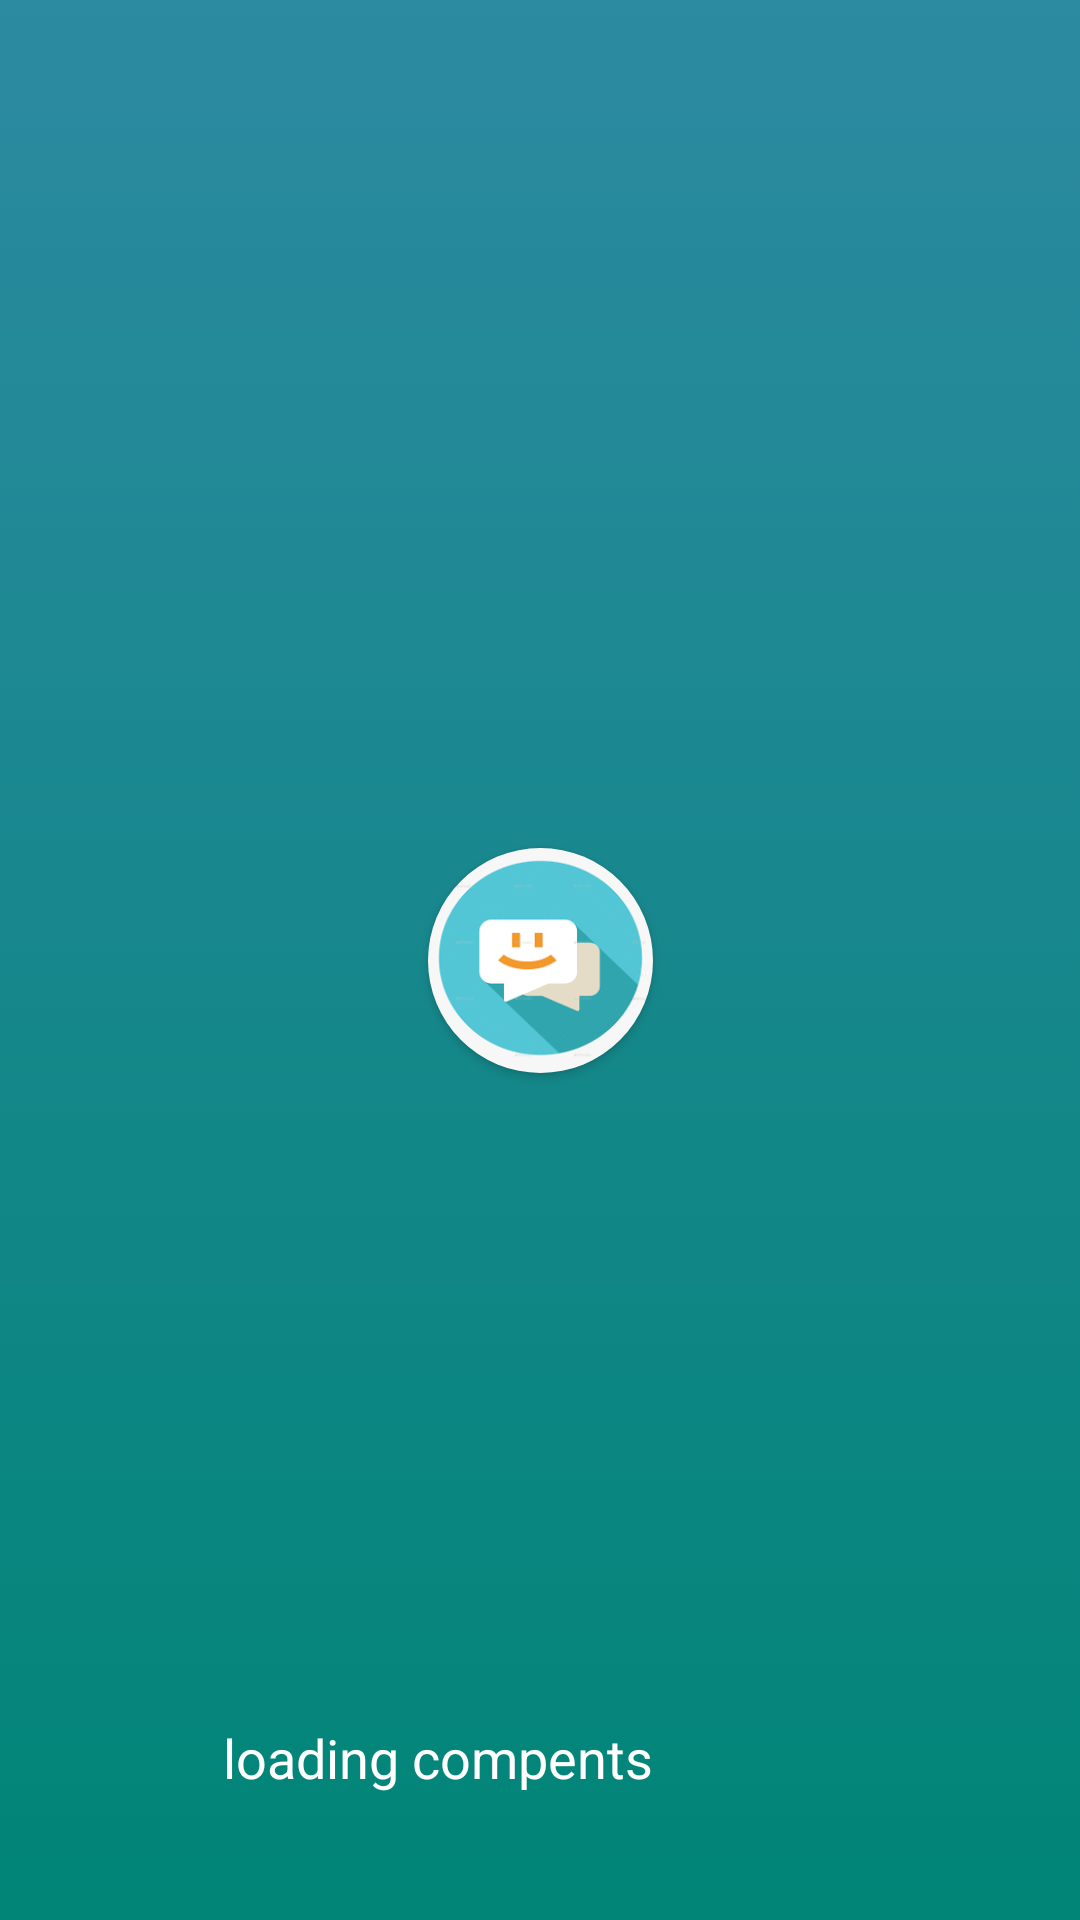

Screen size 1080px x 1920px. Icon name, then its center in pixels as (x,y):
chat: (540,960)
